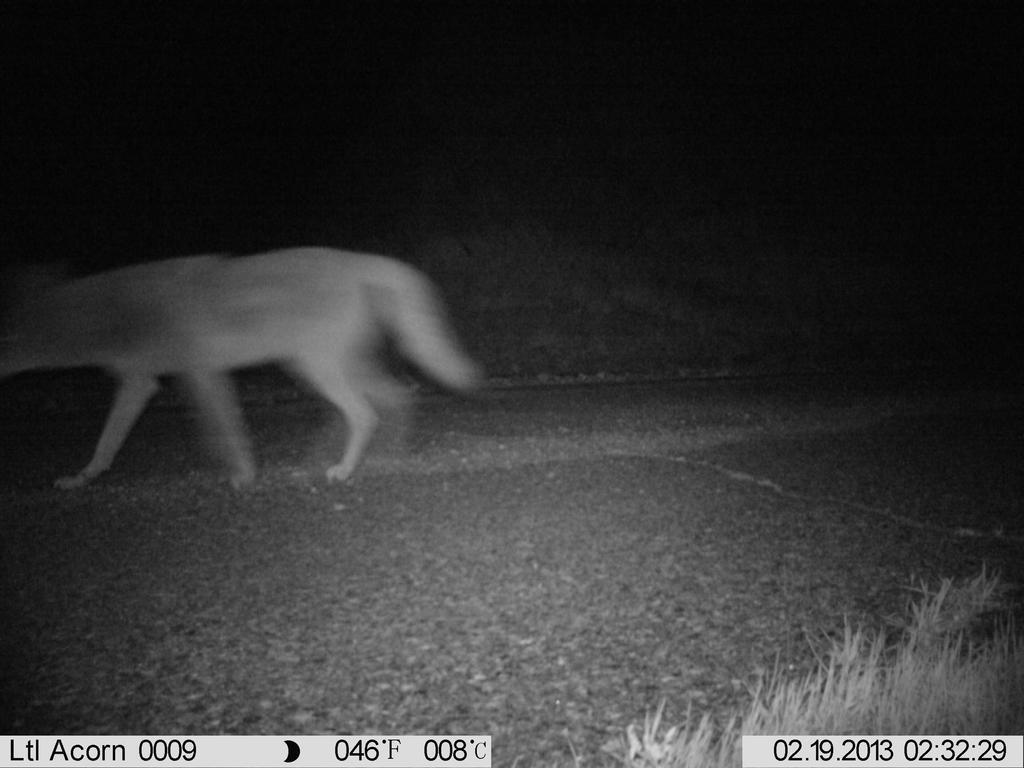coyote: (5, 235, 492, 505)
